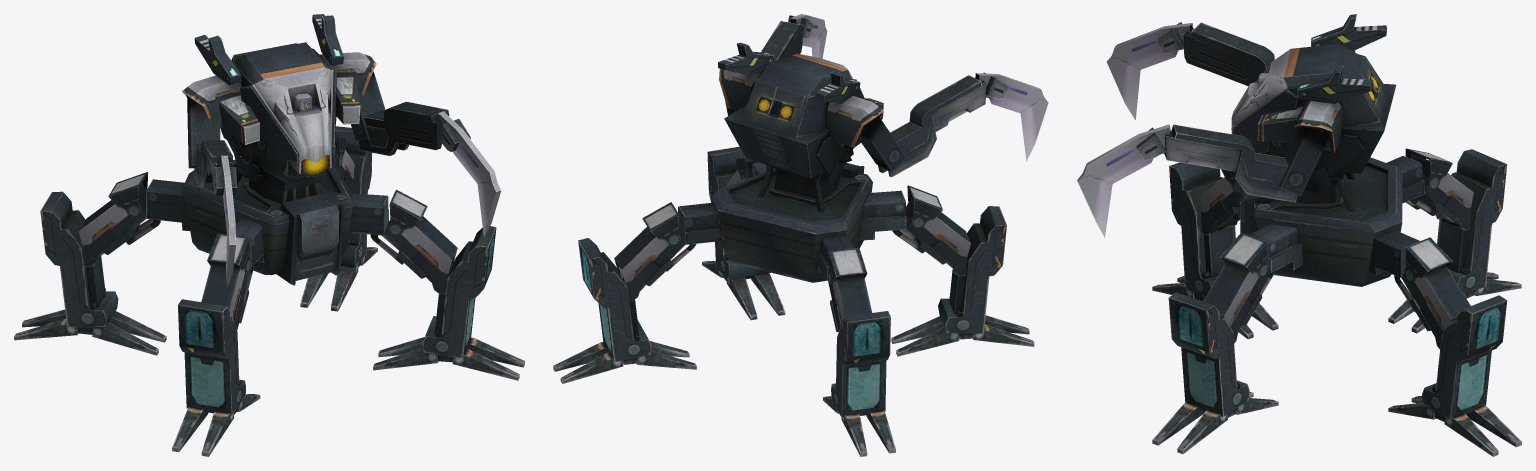
3 renders of one model, left to right at view 1: azimuth 30°, elevation 25°; view 2: azimuth 150°, elevation 25°; view 3: azimuth 270°, elevation 25°, orthographic. The views are drawn at different scales.
Visible parts, largest first — view 1: 20_10; view 2: 20_10; view 3: 20_10.
Boxes of the visible parts, box(x1,y1,x2,y2) form: 20_10: box(14, 14, 524, 456); 20_10: box(553, 14, 1048, 456); 20_10: box(1077, 14, 1521, 456).
Bounding box in the file's own units: 301 × 254 × 314.
